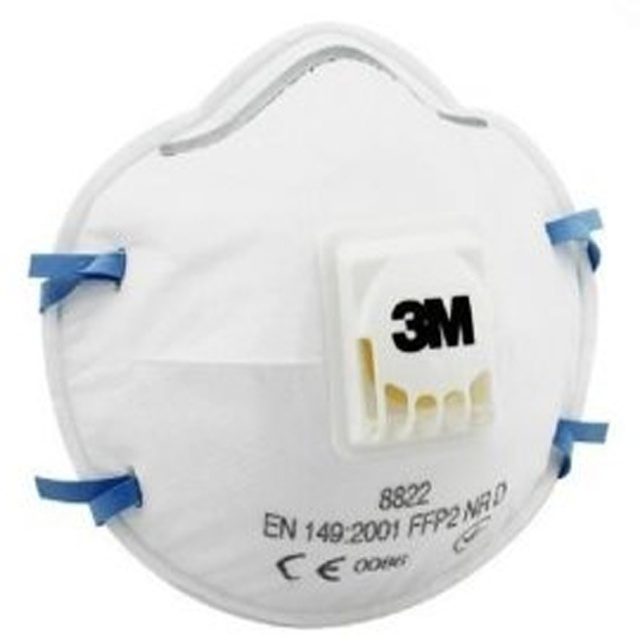mask: (27, 22, 616, 628)
